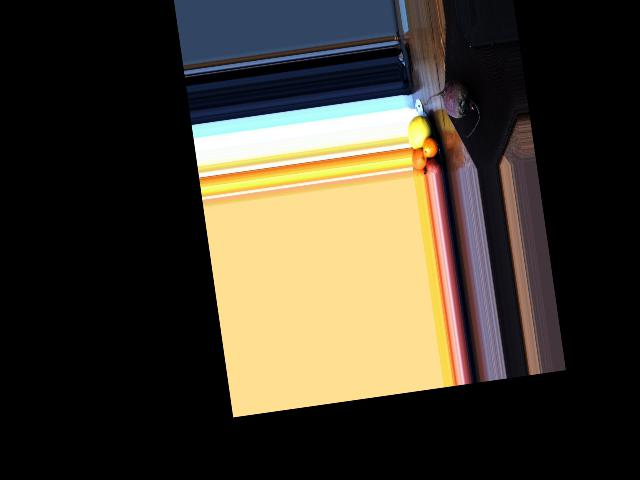beet: (423, 76, 483, 142)
